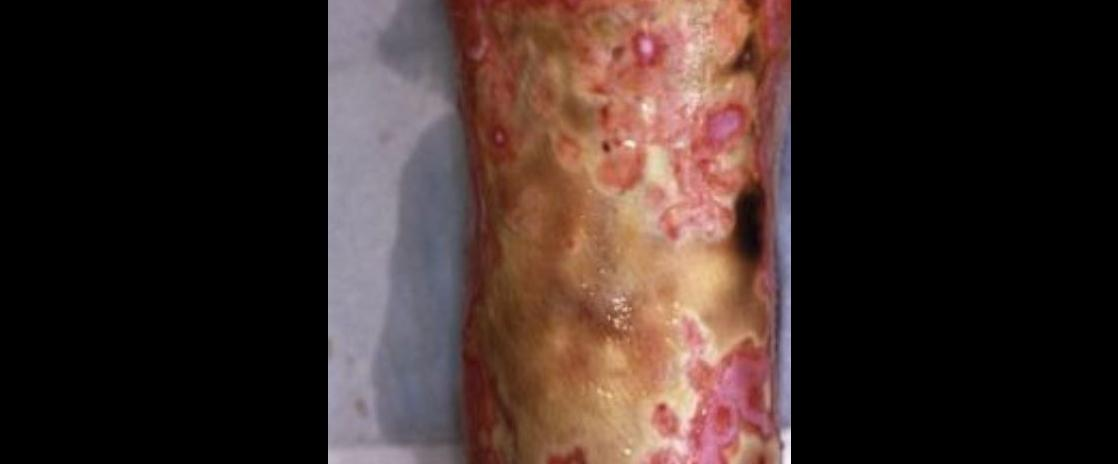NonPU: (483, 0, 757, 464)
